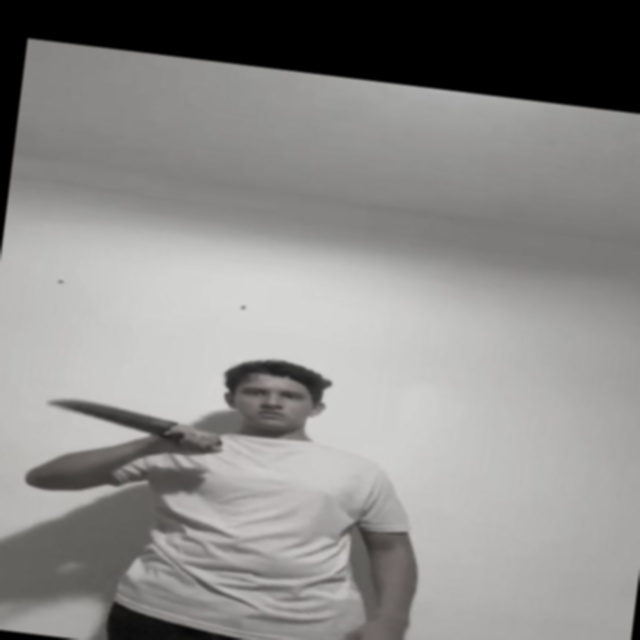Sharp-Object: (44, 394, 180, 436)
